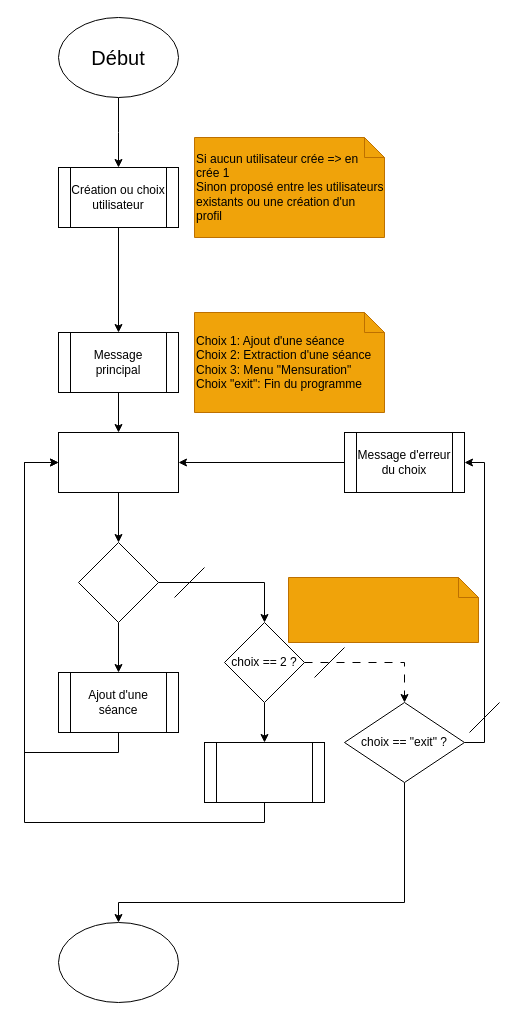
Some shapes in this 518 by 1020 pixel diagram are drawn without their labels. The box of each missing label's shape, as (x1, y1, x2, y2) in pixels:
choix == 1 ?: (78, 542, 158, 622)
Choix de la séance à extraire: (204, 742, 324, 802)
Choix utilisateur: (58, 432, 178, 492)
Fin: (58, 922, 178, 1002)
Fonctionnement identique pour les autres choix: (288, 576, 478, 642)
